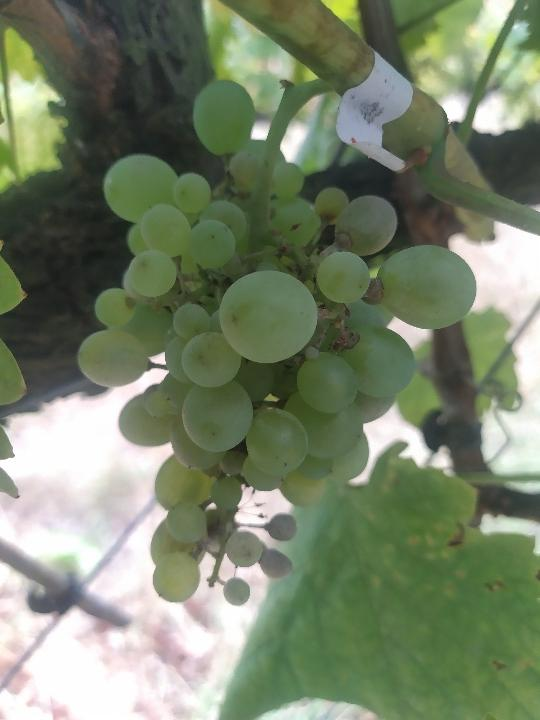grape: (72, 78, 480, 609)
